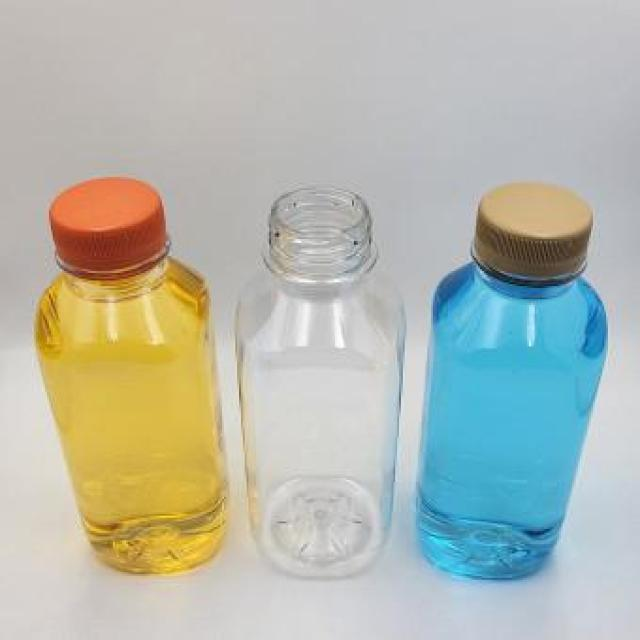bottle: (414, 180, 608, 582), (38, 182, 230, 571), (237, 190, 401, 574)
